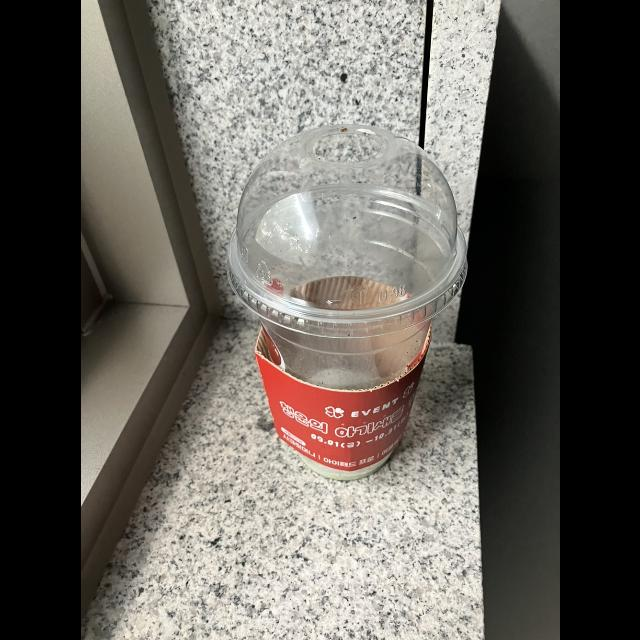plastic_cup: (221, 115, 464, 472)
plastic_cup_lid: (224, 122, 468, 338)
